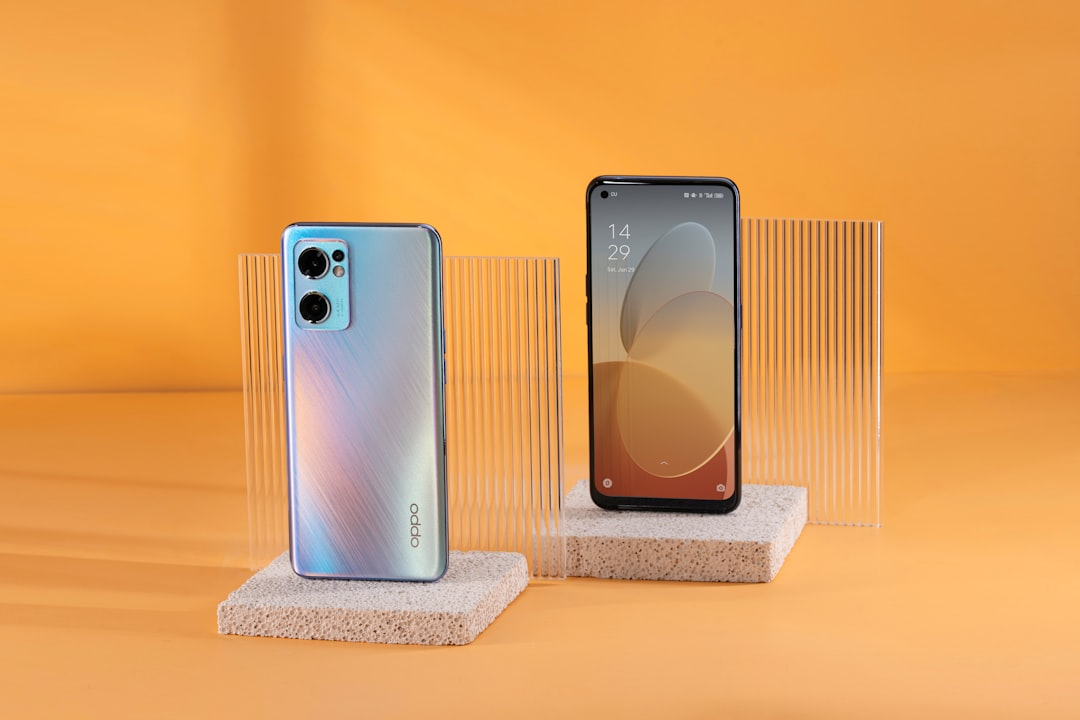phone: (277, 222, 448, 582), (585, 171, 743, 514)
